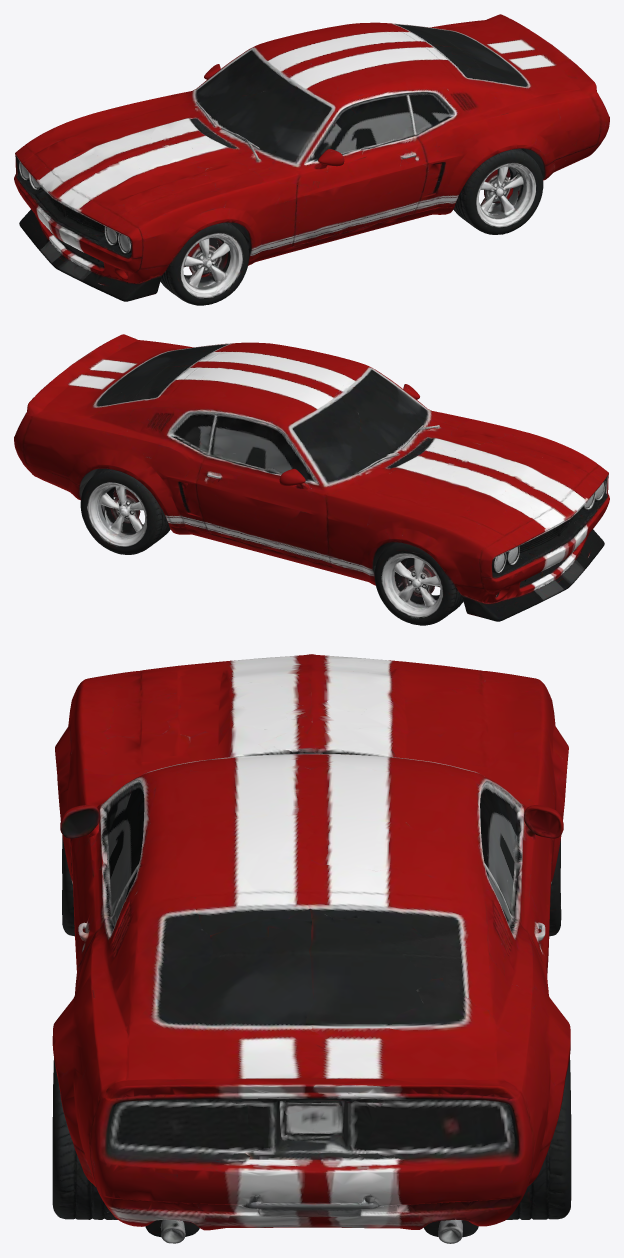
The model's file is crimson.glb.
The picture shows the model from 3 angles, top to bottom: view 1: azimuth 30°, elevation 25°; view 2: azimuth 150°, elevation 25°; view 3: azimuth 270°, elevation 25°; orthographic projection. The views are drawn at different scales.
Bounding box in the file's own units: 1.9 × 0.5616 × 0.8291.
Materials: 1 (1 with a texture image).
